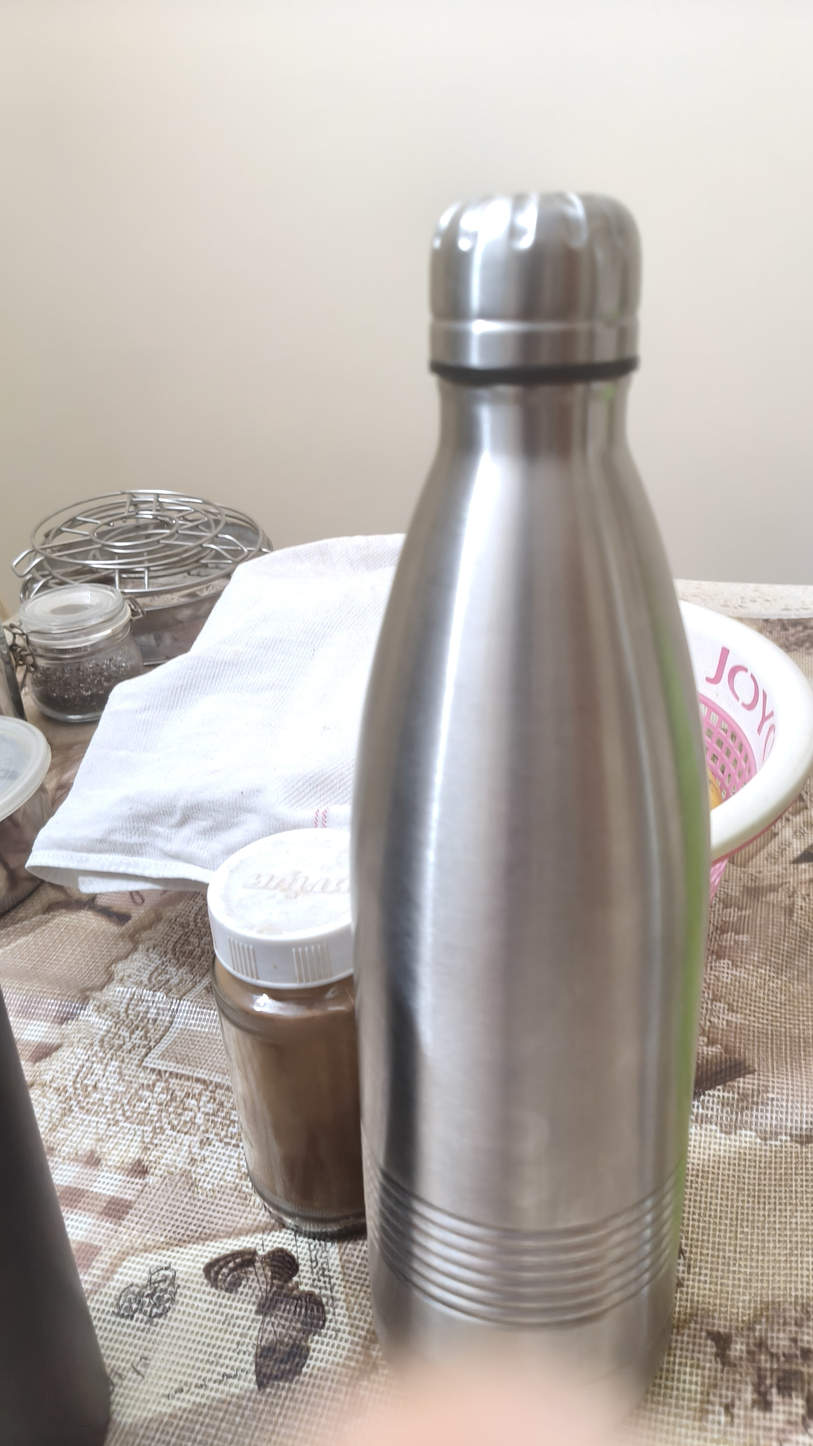bottles: (352, 192, 710, 1381)
